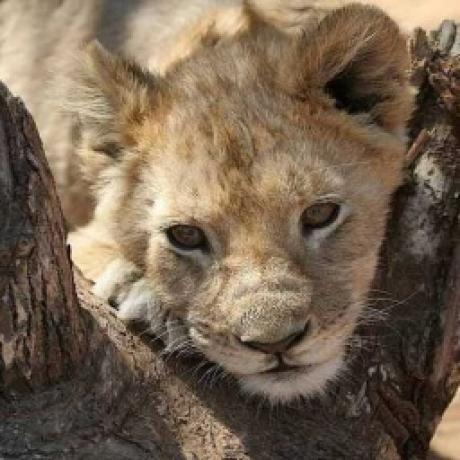Lion: (65, 0, 418, 410)
